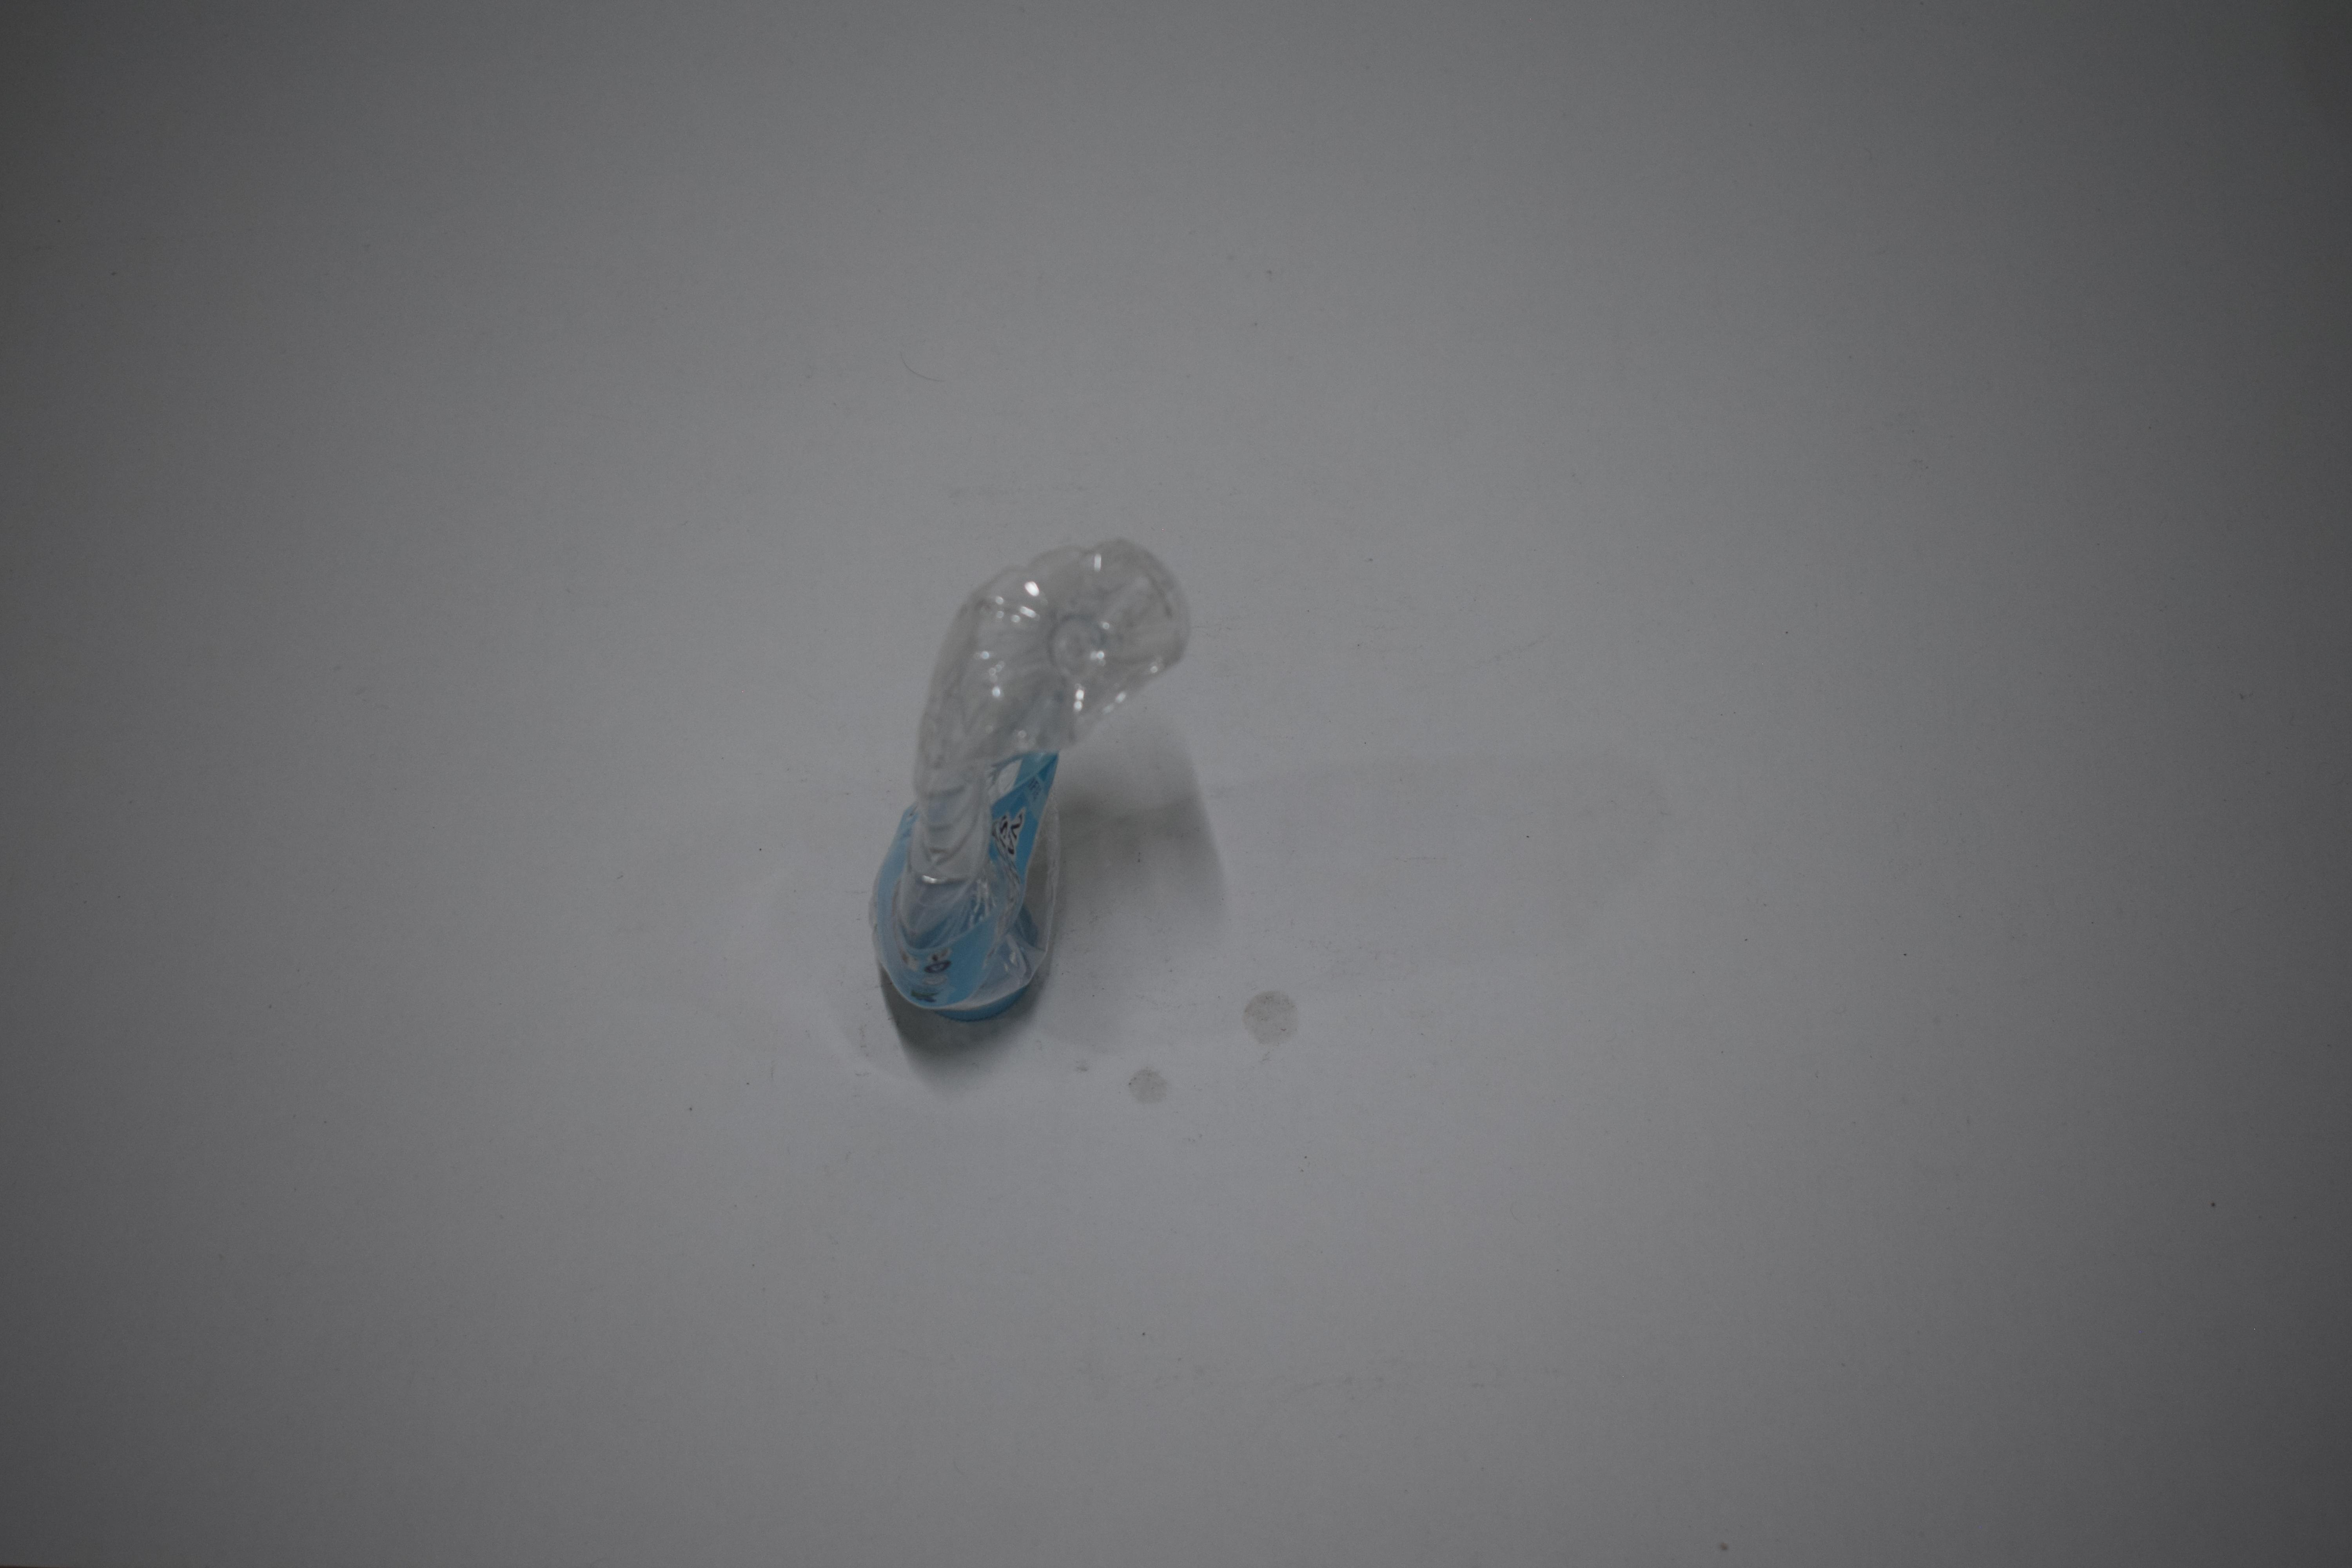bottle: (868, 528, 1197, 1031)
